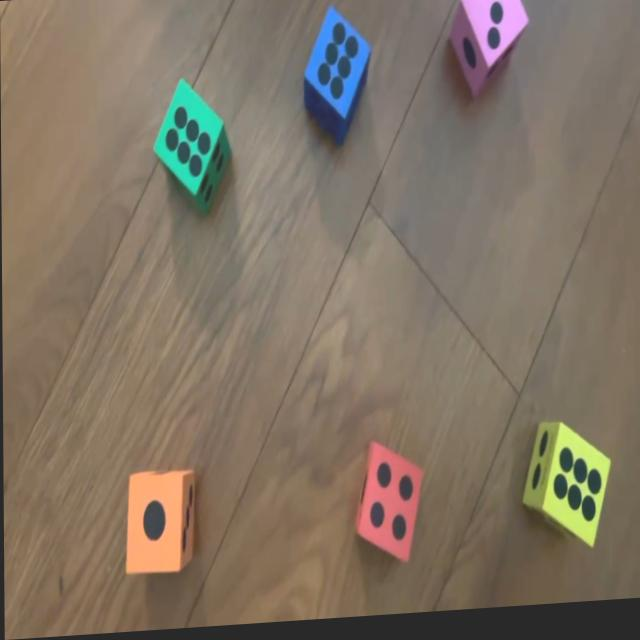blue_block: (302, 7, 370, 150)
red_block: (354, 441, 423, 569)
